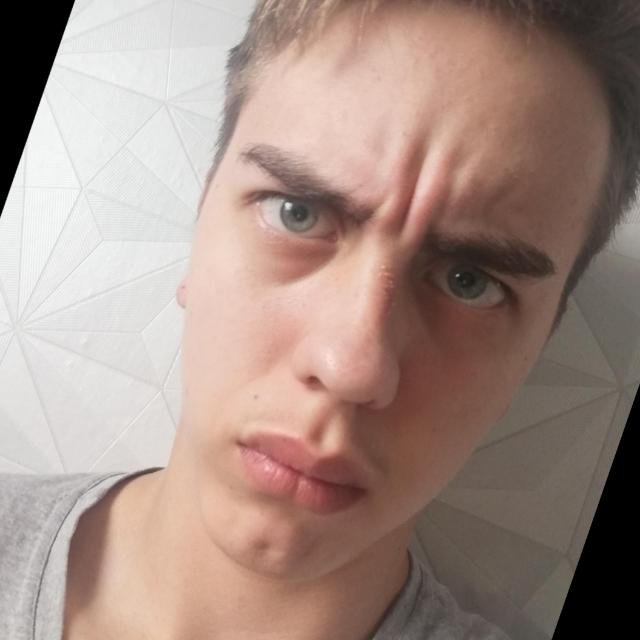Angry: (65, 26, 635, 599)
